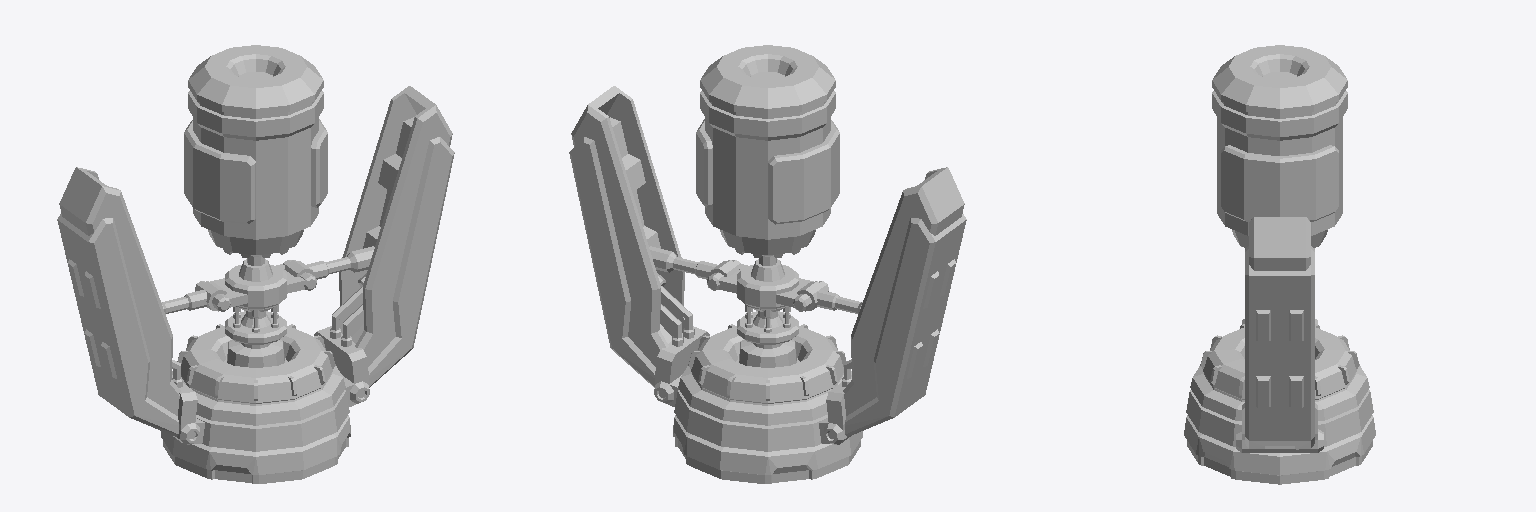
Rendered from generator.obj.
The picture shows the model from 3 angles: view 1: azimuth 30°, elevation 25°; view 2: azimuth 150°, elevation 25°; view 3: azimuth 270°, elevation 25°; orthographic projection.
Parts seen in each view (by area): view 1: SM_Bld_Corp_Generator_01_Arms_01, SM_Bld_Corp_Generator_01_Tank_01, Generator; view 2: SM_Bld_Corp_Generator_01_Arms_01, SM_Bld_Corp_Generator_01_Tank_01, Generator; view 3: SM_Bld_Corp_Generator_01_Tank_01, SM_Bld_Corp_Generator_01_Arms_01, Generator.
Boxes of the visible parts, x1=… form: SM_Bld_Corp_Generator_01_Arms_01: x1=57, y1=86, x2=454, y2=451; SM_Bld_Corp_Generator_01_Tank_01: x1=184, y1=45, x2=327, y2=367; Generator: x1=161, y1=324, x2=350, y2=483; SM_Bld_Corp_Generator_01_Arms_01: x1=569, y1=86, x2=966, y2=451; SM_Bld_Corp_Generator_01_Tank_01: x1=696, y1=45, x2=839, y2=367; Generator: x1=673, y1=324, x2=862, y2=483; SM_Bld_Corp_Generator_01_Tank_01: x1=1212, y1=45, x2=1347, y2=247; SM_Bld_Corp_Generator_01_Arms_01: x1=1186, y1=217, x2=1373, y2=452; Generator: x1=1184, y1=324, x2=1375, y2=484.
Bounding box in the file's own units: 11.36 × 11.2 × 5.16.